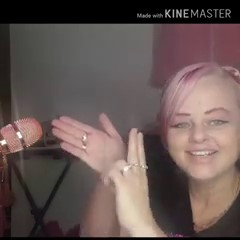N: (45, 105, 155, 231)
